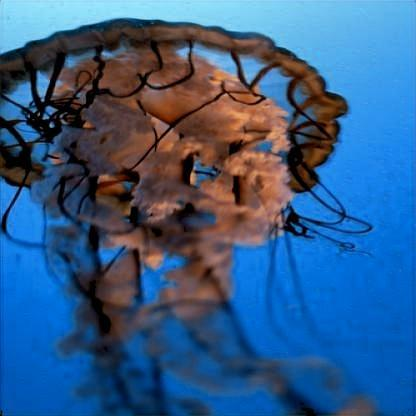Dressed: (5, 19, 331, 409)
